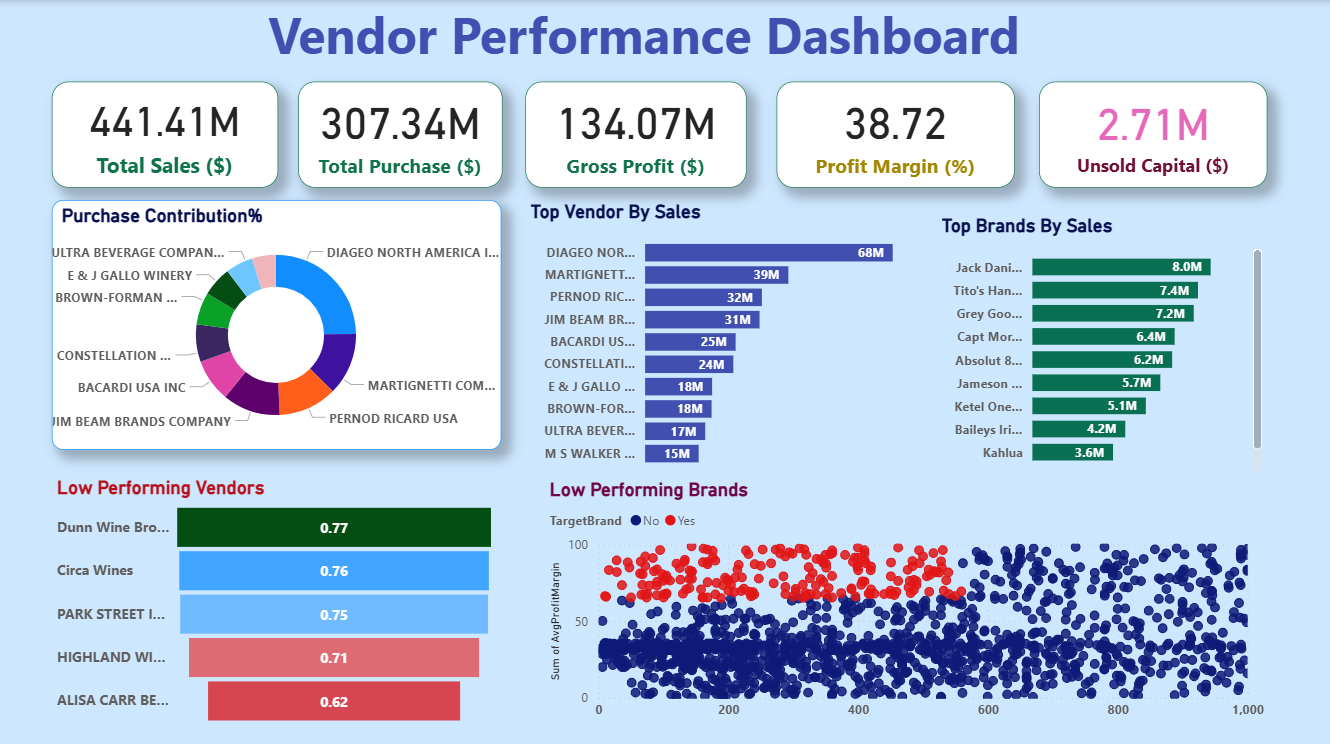

The dashboard page shown, as its layout file describes it:
{"tool":"powerbi","page":{"name":"Page 1","canvas":[1280,720],"ordinal":0},"visuals":[{"type":"card","fields":{"Values":["Sum(public vendor_sales_summary.totalsalesdollars)"]},"box":[50.9,78.6,217.4,101.7],"z":0},{"type":"card","fields":{"Values":["Sum(public vendor_sales_summary.totalpurchasedollars)"]},"box":[286.7,78.6,196.6,101.7],"z":1000},{"type":"card","fields":{"Values":["Sum(public vendor_sales_summary.GrossProfit)"]},"box":[506.4,78.6,212.7,101.7],"z":2000},{"type":"card","fields":{"Values":["Avg(public vendor_sales_summary.ProfitMargin)"]},"box":[746.9,78.6,228.9,101.7],"z":3000},{"type":"card","fields":{"Values":["Sum(public vendor_sales_summary.UnsoldCapital)"]},"box":[998.9,78.6,219.7,101.7],"z":4000},{"type":"donutChart","title":"Purchase Contribution% ","fields":{"Category":["PurchaseContribution.VendorName"],"Y":["Sum(PurchaseContribution.PurchaseContribution%)"]},"box":[51.1,192.2,431.9,239.8],"z":5000},{"type":"barChart","title":"Top Vendor By Sales","fields":{"Category":["public vendor_sales_summary.VendorName"],"Y":["Sum(public vendor_sales_summary.totalsalesdollars)"]},"box":[506.4,191.9,407,265.9],"z":6000},{"type":"barChart","title":"Top Brands By Sales","fields":{"Category":["public vendor_sales_summary.Description"],"Y":["Sum(public vendor_sales_summary.totalsalesdollars)"]},"box":[900.8,206.3,317.3,252.1],"z":7000},{"type":"funnel","title":"Low Performing Vendors","fields":{"Category":["LowTurnoverVendor.VendorName"],"Y":["Avg(LowTurnoverVendor.AvgStockTurnover)"]},"box":[51.1,458.3,431.9,243.3],"z":8000},{"type":"scatterChart","title":"Low Performing Brands","fields":{"Category":["BrandPerformance.Description"],"X":["Sum(BrandPerformance.TotalSales)"],"Y":["Sum(BrandPerformance.AvgProfitMargin)"],"Series":["BrandPerformance.TargetBrand"]},"box":[523.6,460.1,696.3,241.5],"z":8001},{"type":"textbox","box":[254.4,0,830.1,78.6],"z":8002}]}

Visuals, with their boxes in screenshot pixels (x1, y1, x2, y2), scaled from the page's 1280x720 canvas onto the 1330x744 screenshot:
card - Sum(public vendor_sales_summary.totalsalesdollars): box=[53, 81, 279, 186]
card - Sum(public vendor_sales_summary.totalpurchasedollars): box=[298, 81, 502, 186]
card - Sum(public vendor_sales_summary.GrossProfit): box=[526, 81, 747, 186]
card - Avg(public vendor_sales_summary.ProfitMargin): box=[776, 81, 1014, 186]
card - Sum(public vendor_sales_summary.UnsoldCapital): box=[1038, 81, 1266, 186]
"Purchase Contribution% " donutChart: box=[53, 199, 502, 446]
"Top Vendor By Sales" barChart: box=[526, 198, 949, 473]
"Top Brands By Sales" barChart: box=[936, 213, 1266, 474]
"Low Performing Vendors" funnel: box=[53, 474, 502, 725]
"Low Performing Brands" scatterChart: box=[544, 475, 1268, 725]
textbox: box=[264, 0, 1127, 81]
